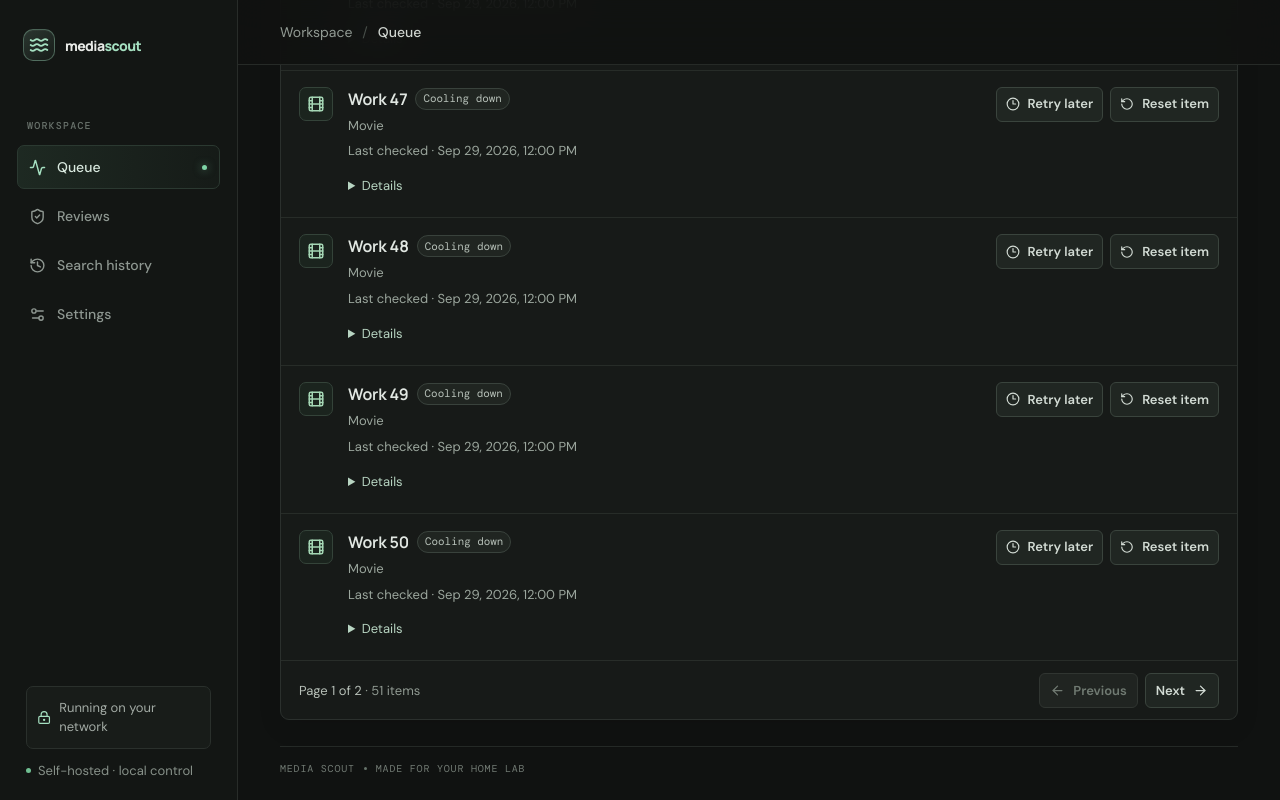
Test case: operations dashboard › clamps a shrunken second queue page back to the last available page after an action
(page scrolled)
Expected: the text "Page 1 of 2" is shown, 299,681 -> 420,700
Click the button "Next". click: x=1182, y=690
box: 1145,673 -> 1219,708
(page scrolled)
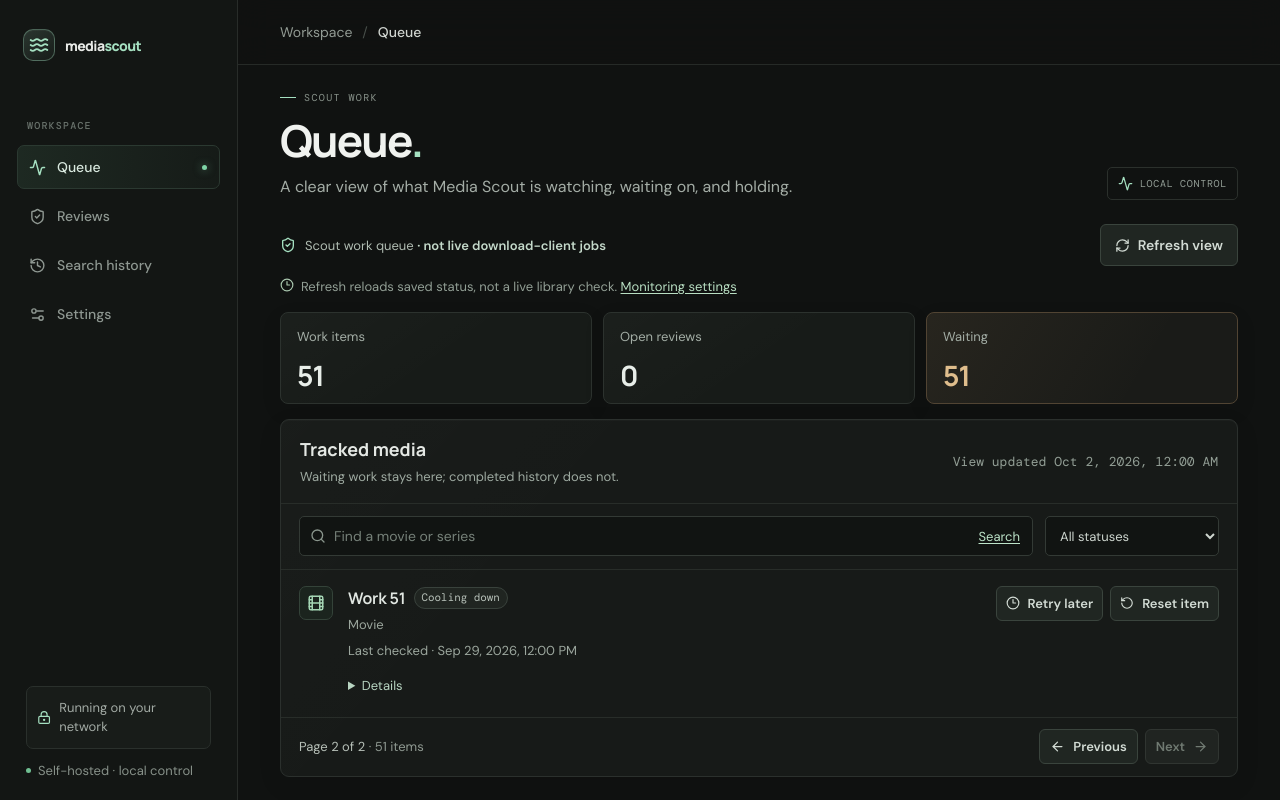
Expected: the heading "Work 51" is shown, 348,586 -> 406,610
Click the button "Reset item". click: x=1165, y=604
box: 1110,586 -> 1219,621
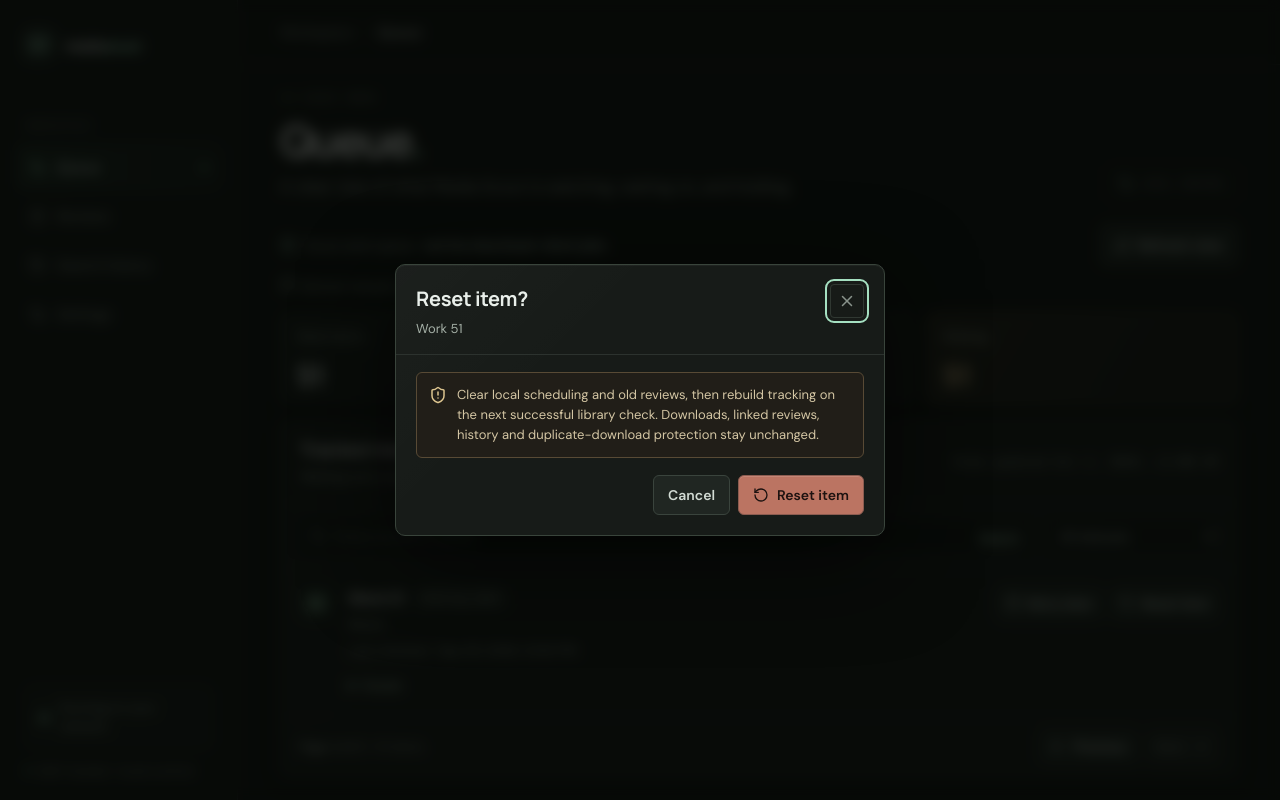
Click the button "Reset item". click: x=801, y=496
box: 738,476 -> 864,516
(page scrolled)
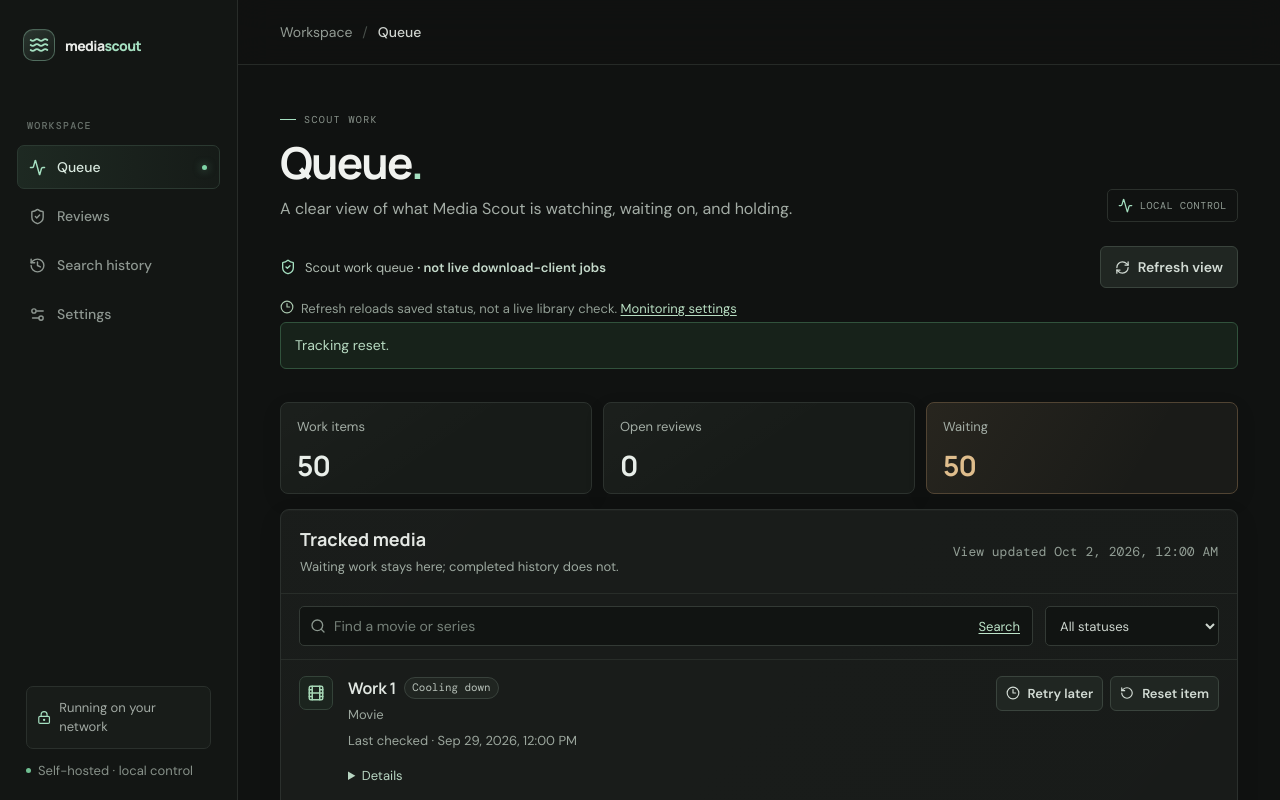
Expected: the heading "Work 1" is shown, 348,676 -> 396,700
Expected: the heading "Work 51" is gone
Expected: the text "Tracking reset." is shown, 295,336 -> 389,356
